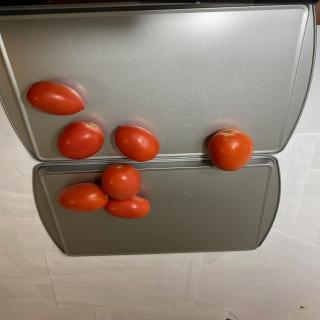Tomato: (26, 80, 85, 116), (207, 129, 254, 171), (56, 121, 105, 160), (115, 125, 160, 162), (58, 182, 110, 212), (102, 163, 142, 200), (104, 195, 150, 219)
